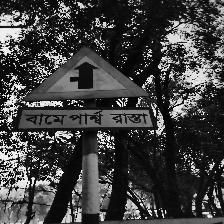Side-road-left: (16, 46, 158, 133)
